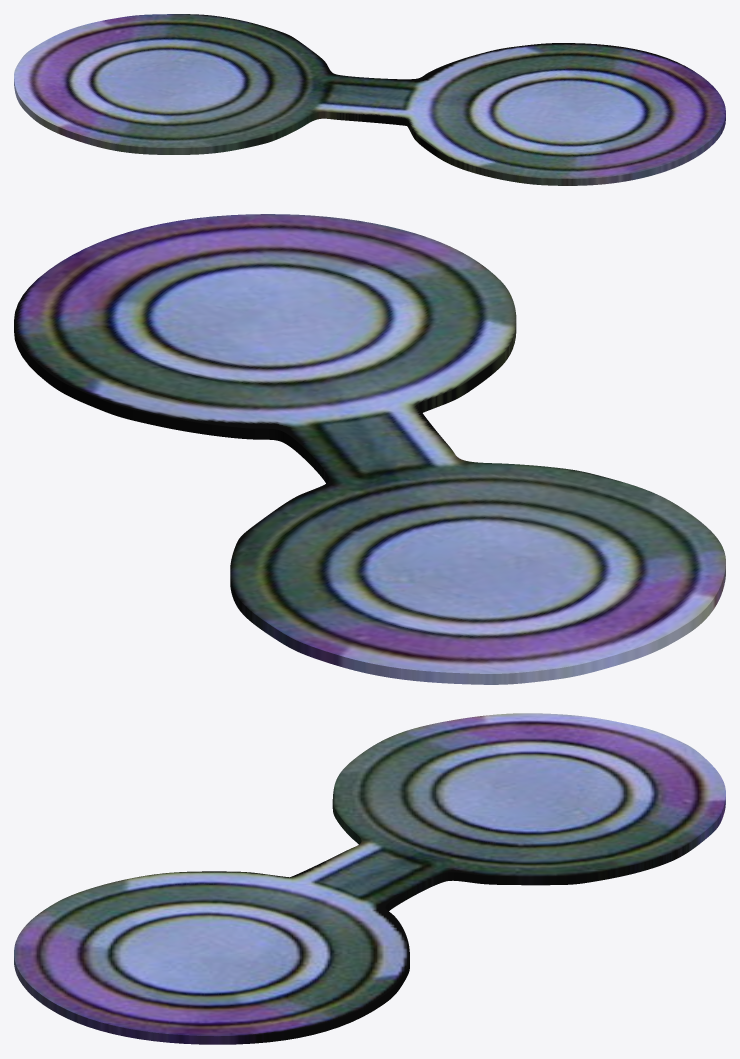
3 renders of one model, top to bottom at view 1: azimuth 30°, elevation 25°; view 2: azimuth 150°, elevation 25°; view 3: azimuth 270°, elevation 25°, orthographic. The views are drawn at different scales.
Parts seen in each view (by area): view 1: path1587; view 2: path1587; view 3: path1587.
Part boxes in pixels (box(x1,y1,x2,y2)): path1587: box(14, 14, 725, 185); path1587: box(14, 214, 725, 684); path1587: box(14, 713, 725, 1044).
Bounding box in the file's own units: 80.63 × 1 × 75.11.
1 material, 1 textured.
